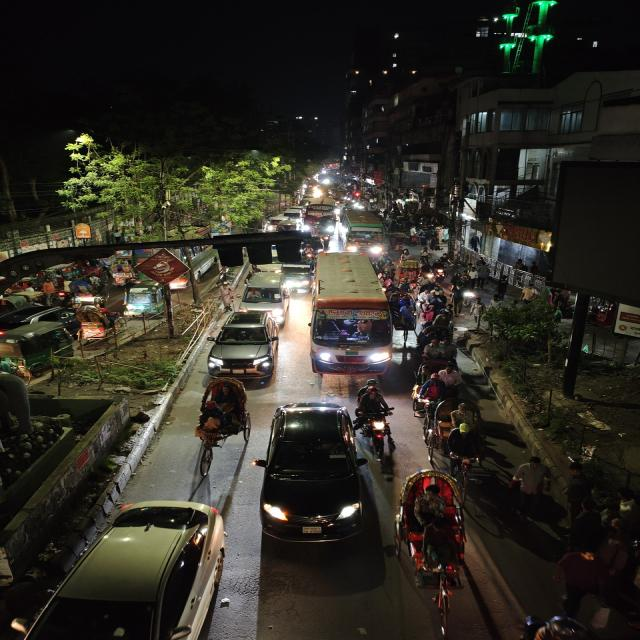bus: (308, 250, 395, 378), (131, 241, 222, 290), (339, 209, 389, 255), (303, 202, 338, 236)
car: (14, 497, 228, 640), (258, 399, 368, 549), (203, 309, 282, 379), (0, 303, 80, 341), (235, 272, 288, 312)
cng: (0, 322, 80, 378), (121, 279, 170, 318)
motorcycle: (435, 411, 495, 477), (357, 384, 398, 457)
pedestrian: (550, 546, 612, 624), (555, 497, 609, 556), (507, 454, 553, 516), (607, 486, 640, 522)
rickshaw: (394, 466, 473, 634), (191, 375, 253, 451), (417, 371, 471, 421), (411, 323, 461, 371), (64, 266, 108, 306), (75, 304, 118, 340), (397, 260, 422, 282)
